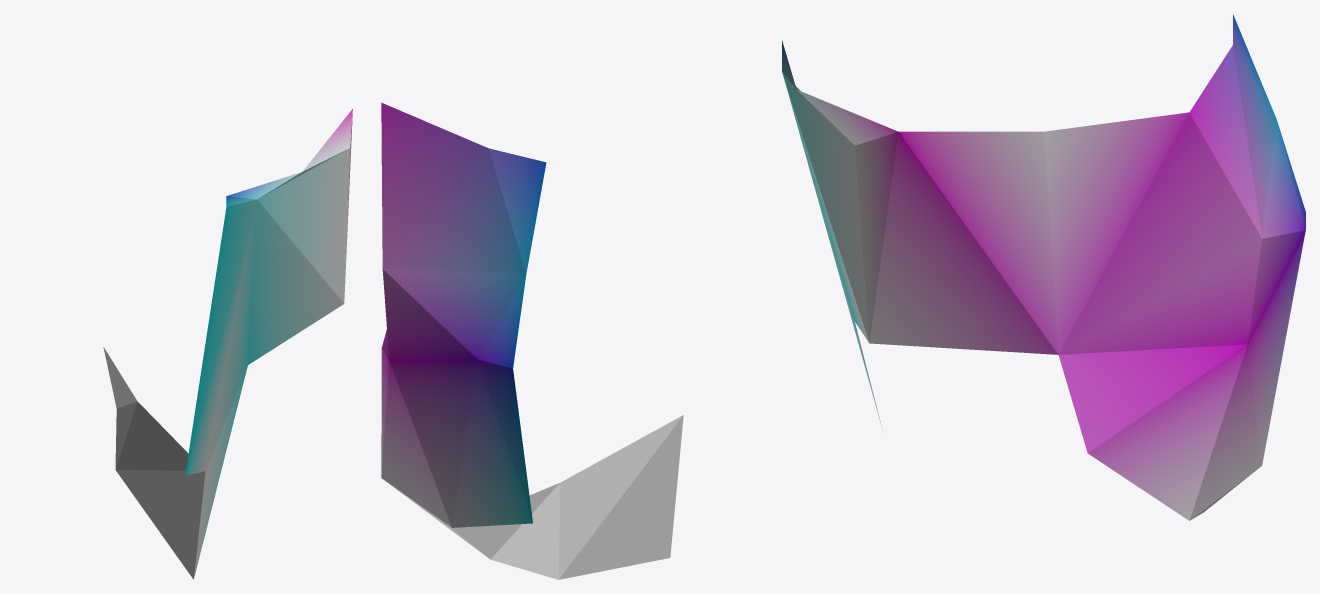
3 views of the same model, side by side, from view 1: azimuth 30°, elevation 25°; view 2: azimuth 150°, elevation 25°; view 3: azimuth 270°, elevation 25° (orthographic). The views are drawn at different scales.
Parts seen in each view (by area): view 1: model_1122; view 2: model_1122; view 3: model_1122.
Boxes of the visible parts, x1,y1,x2,y2 form: model_1122: (103, 109, 352, 579); model_1122: (381, 102, 683, 579); model_1122: (782, 14, 1305, 520).
Bounding box in the file's own units: 20 × 42 × 36.
